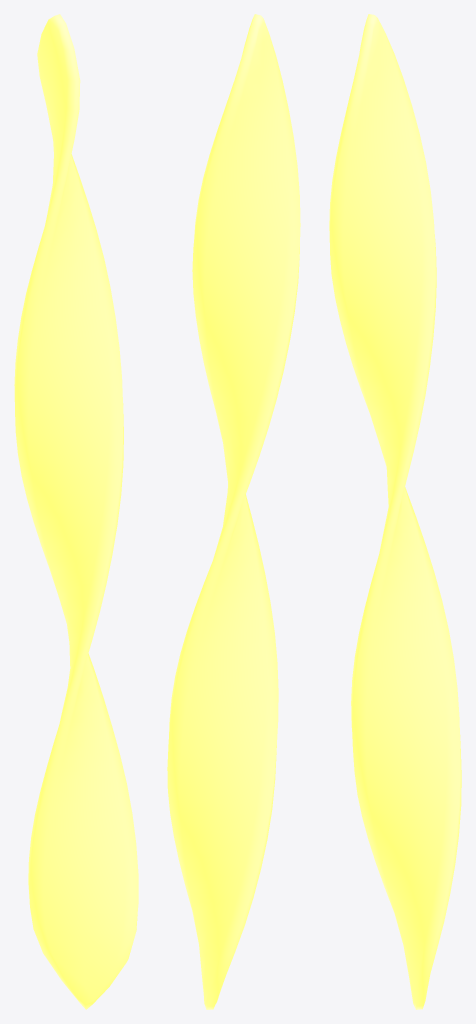
Rendered from Fusili.001.gltf.
The picture shows the model from 3 angles, left to right: view 1: azimuth 30°, elevation 25°; view 2: azimuth 150°, elevation 25°; view 3: azimuth 330°, elevation 25°; orthographic projection.
Visible parts, largest first — view 1: Fusili.001; view 2: Fusili.001; view 3: Fusili.001.
Part boxes in pixels (<box>): Fusili.001: <box>14,14,138,1009</box>; Fusili.001: <box>167,14,300,1009</box>; Fusili.001: <box>329,14,461,1009</box>.
Size of the model in its own units: 0.3841 by 3.19 by 0.3175.
